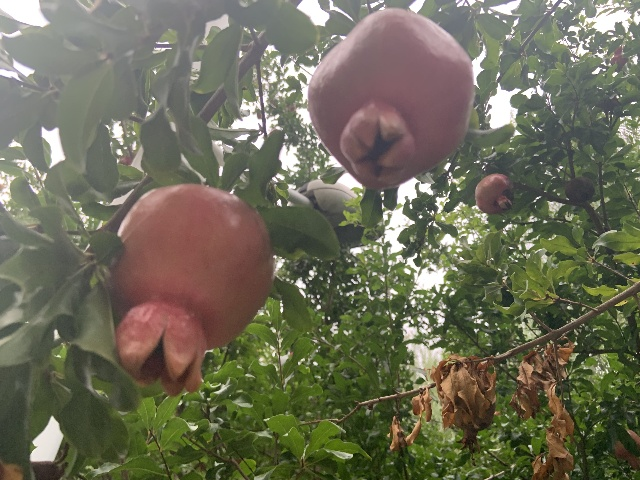ripe: (111, 183, 274, 396), (306, 8, 476, 188), (474, 173, 512, 214), (614, 428, 640, 470)
